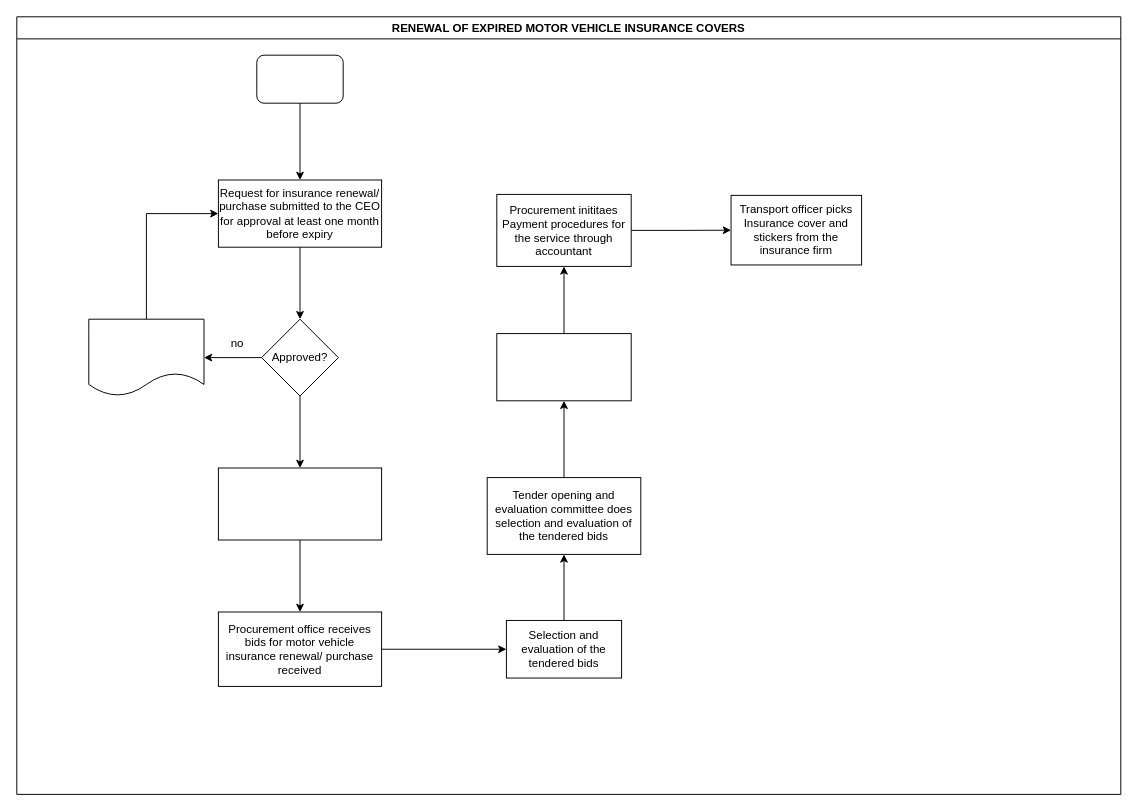
The diagram is 1138 pixels wide and 811 high, and some of its shapes have lost their labels. The box of each missing label's shape, as (x1, y1, x2, y2) in pixels:
Comments: (88, 318, 204, 396)
Insurance provider identified and tender awarded by the procurement officer: (496, 333, 631, 401)
Procurement office tenders for insurance renewal/ purchase invited: (217, 467, 382, 540)
Start: (256, 54, 343, 103)
